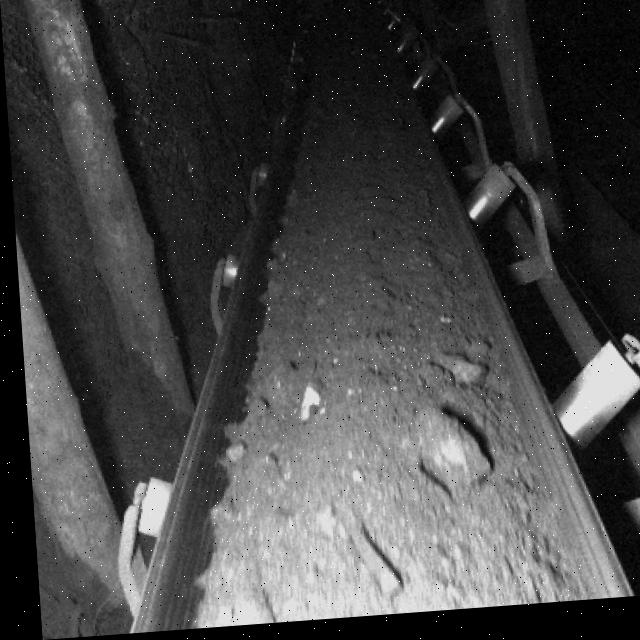large_sized_coal: (401, 408, 488, 496), (343, 525, 392, 603), (407, 353, 484, 400)
